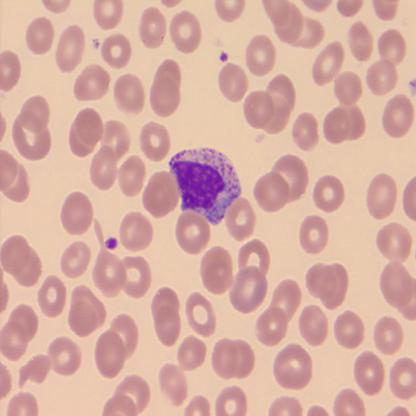Metamyelocyte: (166, 145, 243, 228)
